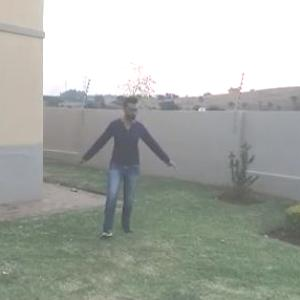land: (76, 94, 174, 246)
